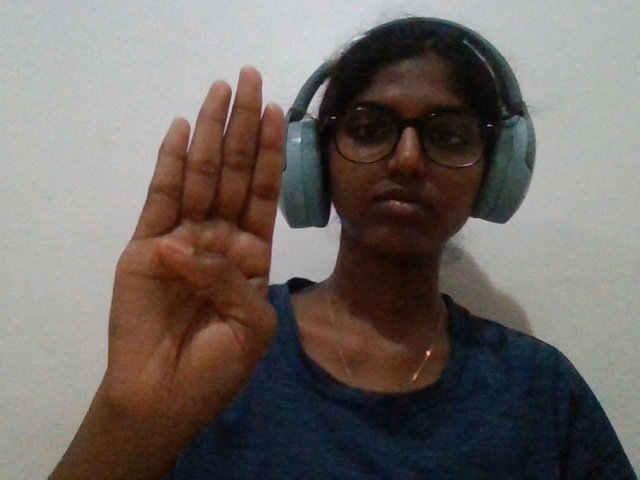B: (82, 58, 308, 455)
